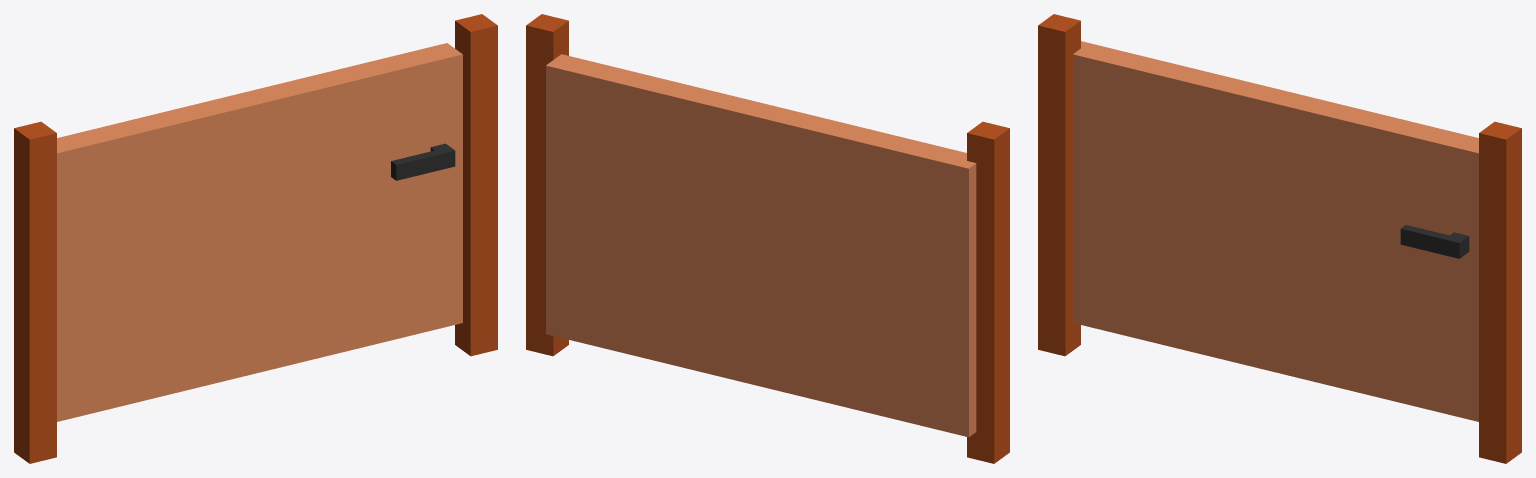
Rendered from Puerta Cerrada.fbx.
The picture shows the model from 3 angles, left to right: view 1: azimuth 30°, elevation 25°; view 2: azimuth 150°, elevation 25°; view 3: azimuth 330°, elevation 25°; orthographic projection.
Visible parts, largest first — view 1: Cube.001, Cube.003, Cube.002, Cube.004; view 2: Cube.001, Cube.003, Cube.002; view 3: Cube.001, Cube.002, Cube.003, Cube.004.
Part boxes in pixels (bbox=[...]): Cube.001: bbox=[57, 43, 462, 421]; Cube.003: bbox=[14, 121, 56, 463]; Cube.002: bbox=[455, 14, 497, 356]; Cube.004: bbox=[391, 143, 455, 180]; Cube.001: bbox=[546, 54, 976, 437]; Cube.003: bbox=[967, 121, 1009, 463]; Cube.002: bbox=[526, 14, 568, 356]; Cube.001: bbox=[1073, 41, 1478, 421]; Cube.002: bbox=[1479, 121, 1521, 463]; Cube.003: bbox=[1038, 14, 1080, 356]; Cube.004: bbox=[1400, 225, 1469, 258].
Size of the model in its own units: 152 by 101 by 14.29.
